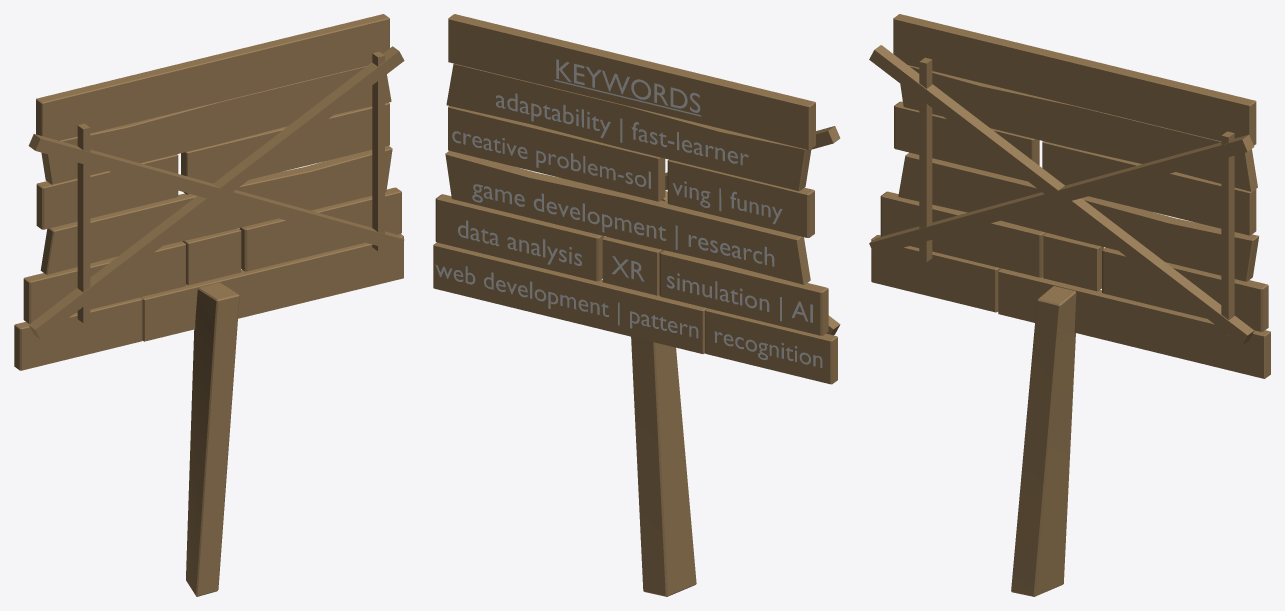
File: sign2.gltf
3 views of the same model, side by side, from view 1: azimuth 30°, elevation 25°; view 2: azimuth 150°, elevation 25°; view 3: azimuth 330°, elevation 25° (orthographic). The views are drawn at different scales.
Visible parts, largest first — view 1: message_board; view 2: message_board, Text.005, Text.004, Text.003, Text.002, Text.001, Text; view 3: message_board.
Part boxes in pixels (x1,y1,x2,y2): message_board: (14,14,404,596); message_board: (433,14,840,596); Text.005: (435,264,822,368); Text.004: (458,220,812,322); Text.003: (472,184,774,266); Text.002: (452,131,782,224); Text.001: (496,93,748,165); Text: (554,59,701,116); message_board: (869,14,1270,596).
Size of the model in its own units: 5.95 by 7.59 by 0.7549.
